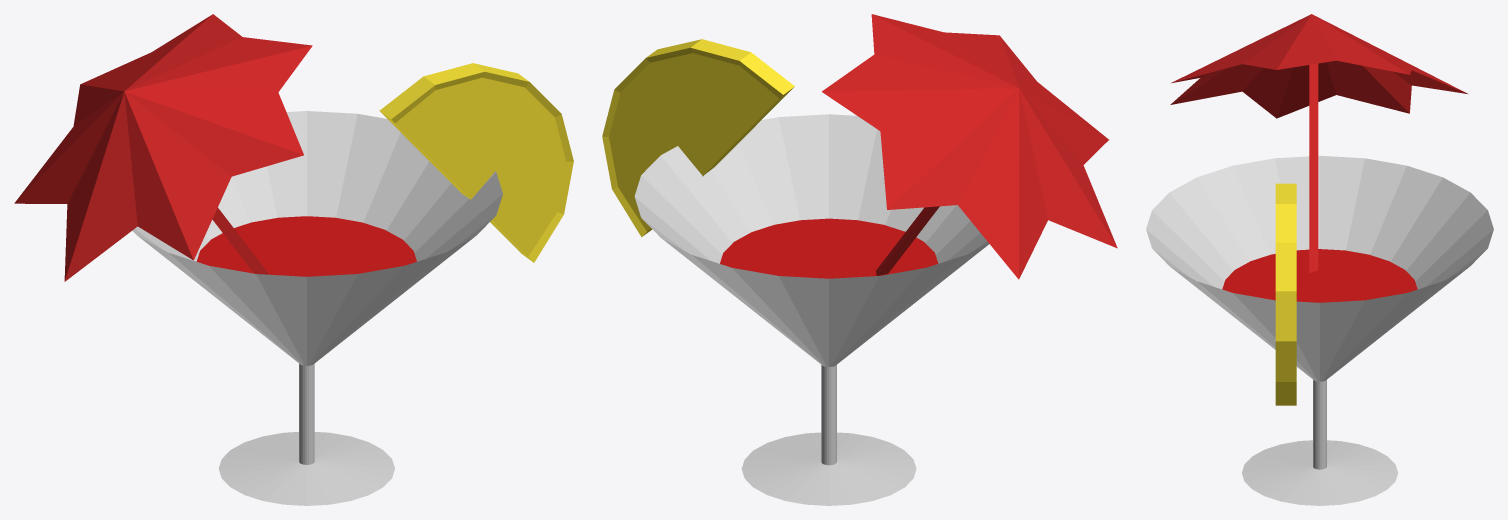
Rendered from wineglass2.fbx.
3 views of the same model, side by side, from view 1: azimuth 30°, elevation 25°; view 2: azimuth 150°, elevation 25°; view 3: azimuth 270°, elevation 25° (orthographic). The views are drawn at different scales.
Parts seen in each view (by area): view 1: glass, umbrella, limon, liquid; view 2: glass, umbrella, limon, liquid; view 3: glass, umbrella, liquid, limon.
Part boxes in pixels (x1,y1,x2,y2): glass: [132, 111, 502, 505]; umbrella: [14, 14, 312, 281]; limon: [379, 63, 573, 262]; liquid: [196, 216, 416, 276]; glass: [634, 114, 989, 505]; umbrella: [822, 14, 1117, 279]; limon: [602, 39, 794, 237]; liquid: [720, 218, 938, 278]; glass: [1146, 155, 1493, 505]; umbrella: [1170, 14, 1468, 272]; liquid: [1222, 249, 1417, 302]; limon: [1275, 183, 1296, 405].
Bounding box in the file's own units: 299 × 250 × 200.
